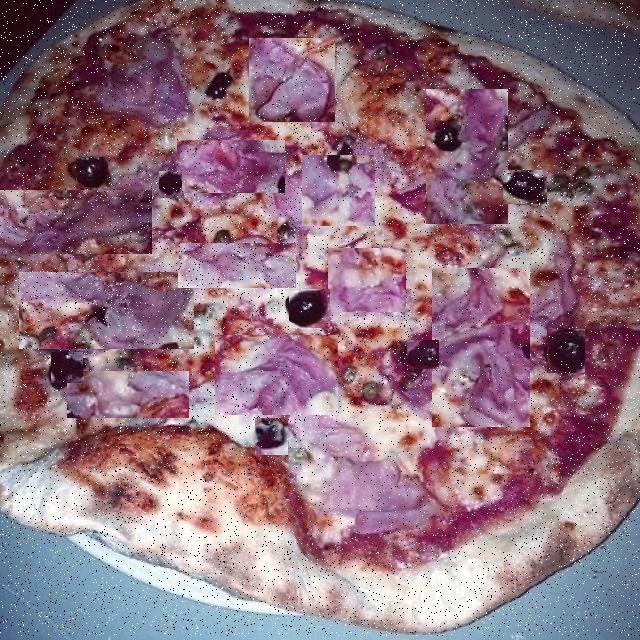Ham: (305, 414, 443, 532), (432, 268, 530, 427), (19, 272, 196, 349), (426, 89, 508, 224), (215, 335, 338, 415), (0, 190, 152, 254), (94, 33, 184, 124), (249, 38, 335, 122), (67, 372, 189, 419), (177, 140, 285, 193), (179, 243, 296, 288), (302, 155, 375, 226), (328, 248, 406, 312)
Olives: (547, 329, 585, 373), (289, 289, 330, 328), (503, 170, 547, 204), (255, 418, 288, 455), (76, 157, 108, 188), (51, 352, 83, 383), (407, 340, 439, 369), (436, 154, 458, 188), (204, 74, 234, 96), (160, 171, 183, 198)
Pizza: (0, 0, 640, 636)
